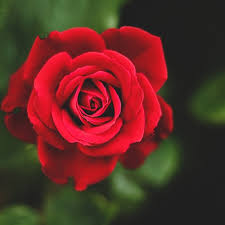rose: (8, 26, 184, 190)
